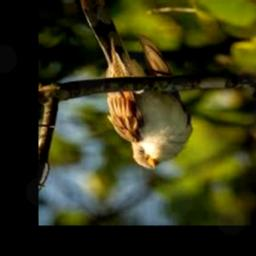Cuckoo: (80, 0, 191, 168)
